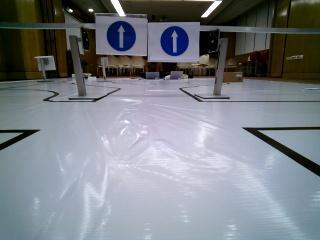straight: (94, 12, 147, 57), (146, 22, 197, 62)
